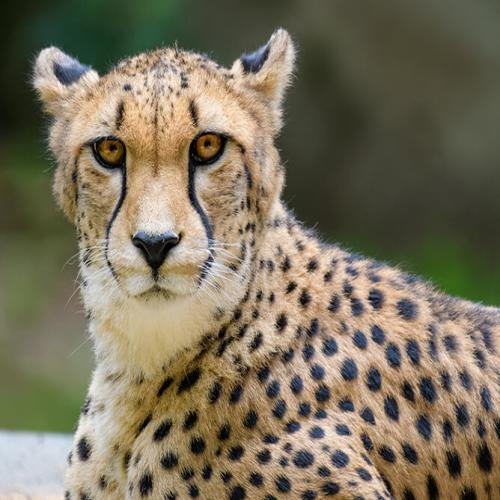cheetah-endangered: (33, 24, 500, 500)
